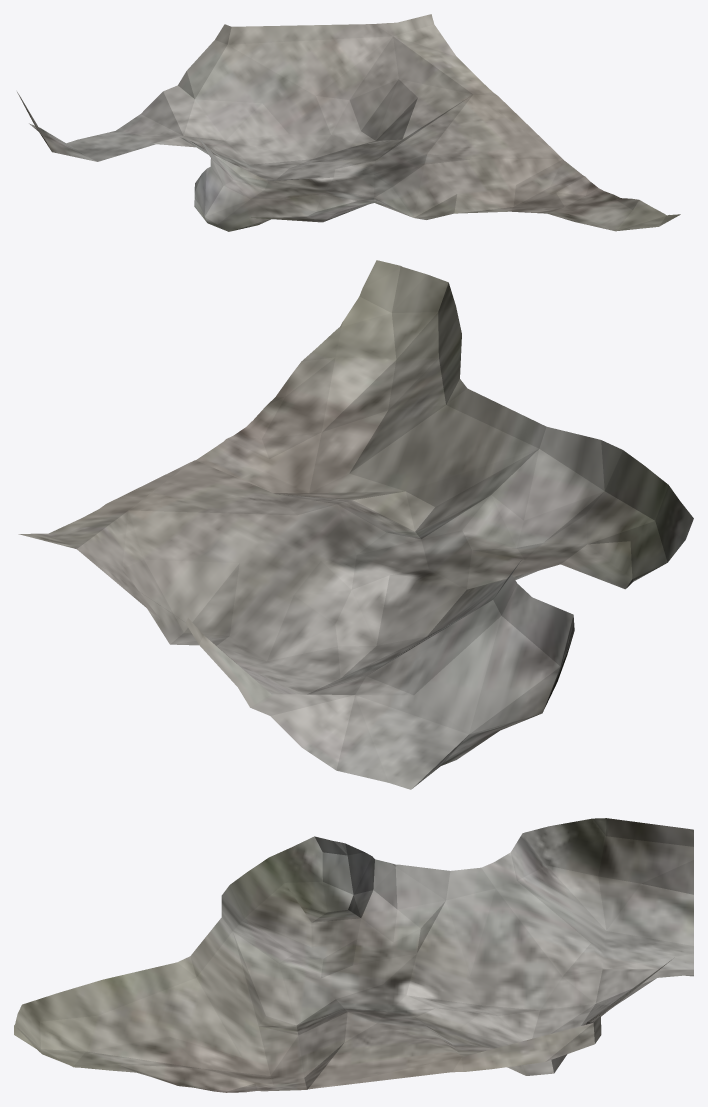
3 renders of one model, top to bottom at view 1: azimuth 30°, elevation 25°; view 2: azimuth 150°, elevation 25°; view 3: azimuth 270°, elevation 25°, orthographic. The views are drawn at different scales.
Bounding box in the file's own units: 3.14 × 0.6402 × 4.15.
Materials: 1 (1 with a texture image).
